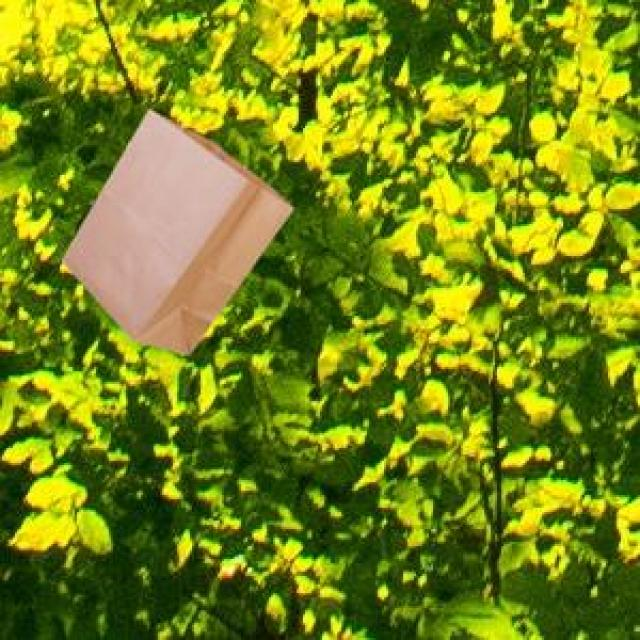Paper -Biodegradable-: (61, 109, 292, 358)
